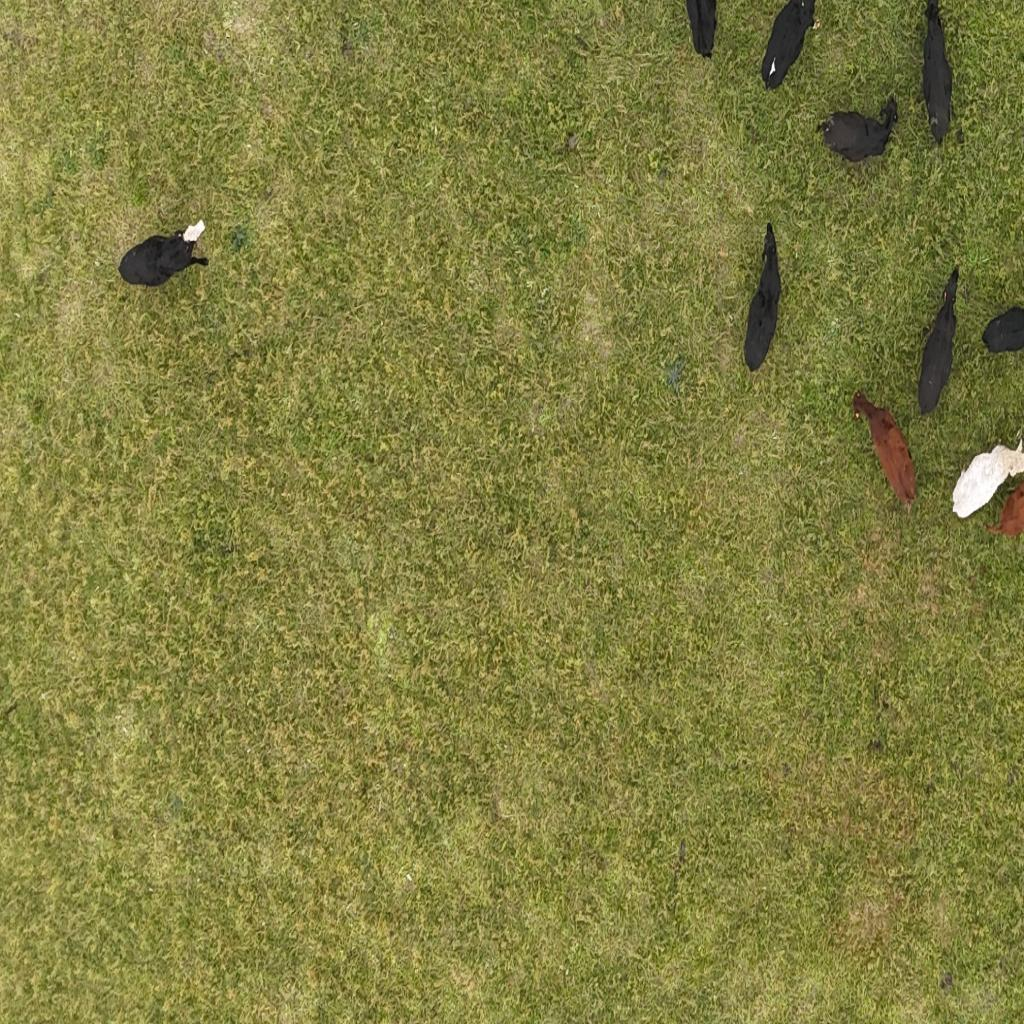cow: (118, 212, 215, 292), (851, 395, 917, 509), (948, 428, 1024, 520), (813, 93, 901, 169), (916, 266, 960, 416), (917, 0, 956, 154), (744, 220, 782, 372), (759, 0, 821, 92)
